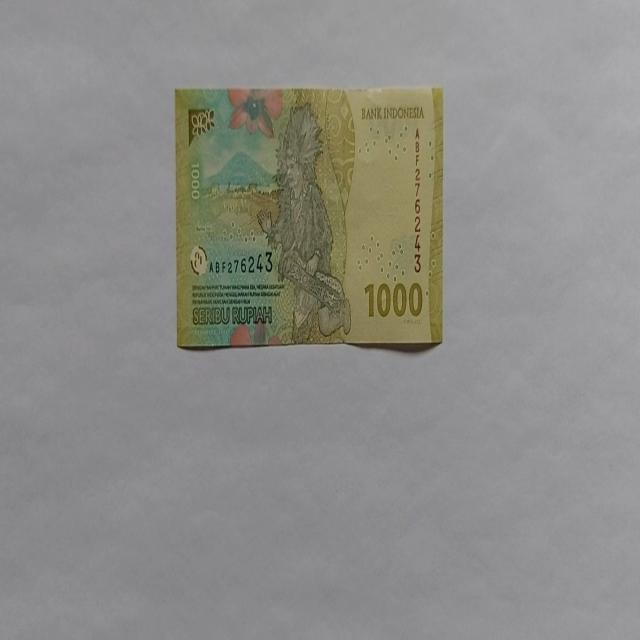seribu rupiah kertas: (174, 84, 444, 350)
